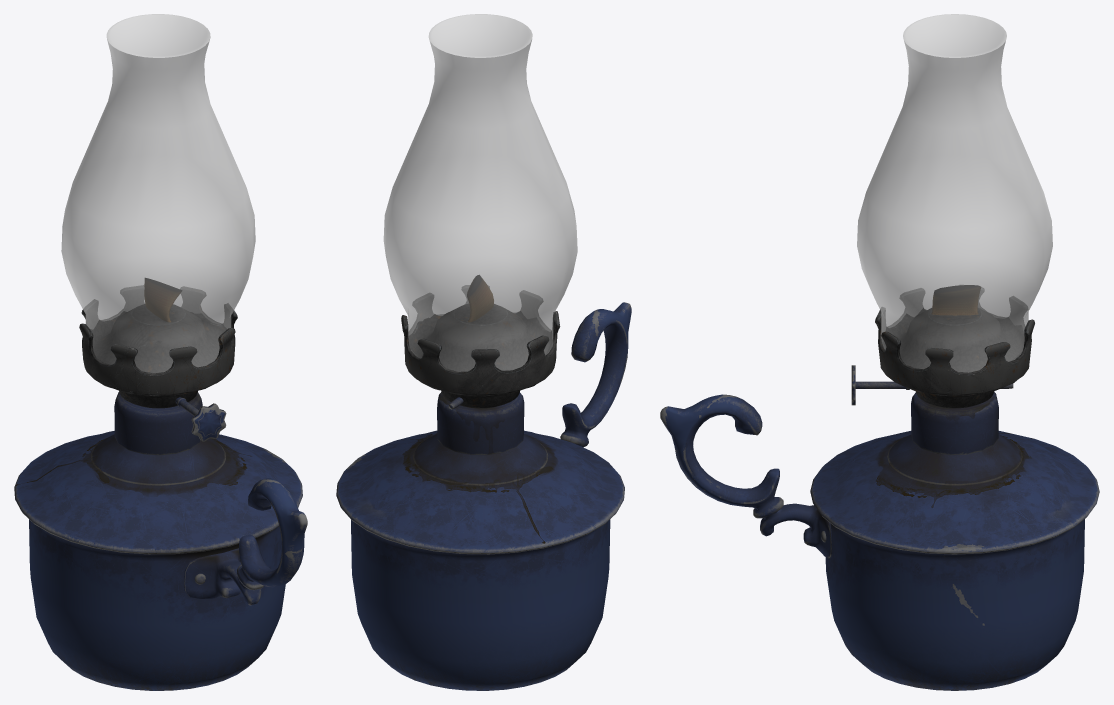
Rendered from FMC_Lamp.fbx.
3 views of the same model, side by side, from view 1: azimuth 30°, elevation 25°; view 2: azimuth 150°, elevation 25°; view 3: azimuth 270°, elevation 25° (orthographic).
Parts seen in each view (by area): view 1: Lamp; view 2: Lamp; view 3: Lamp.
Part boxes in pixels (x1,y1,x2,y2): Lamp: (14,14,307,690); Lamp: (336,14,631,690); Lamp: (660,14,1099,690).
Size of the model in its own units: 17.62 by 41.21 by 26.75.
